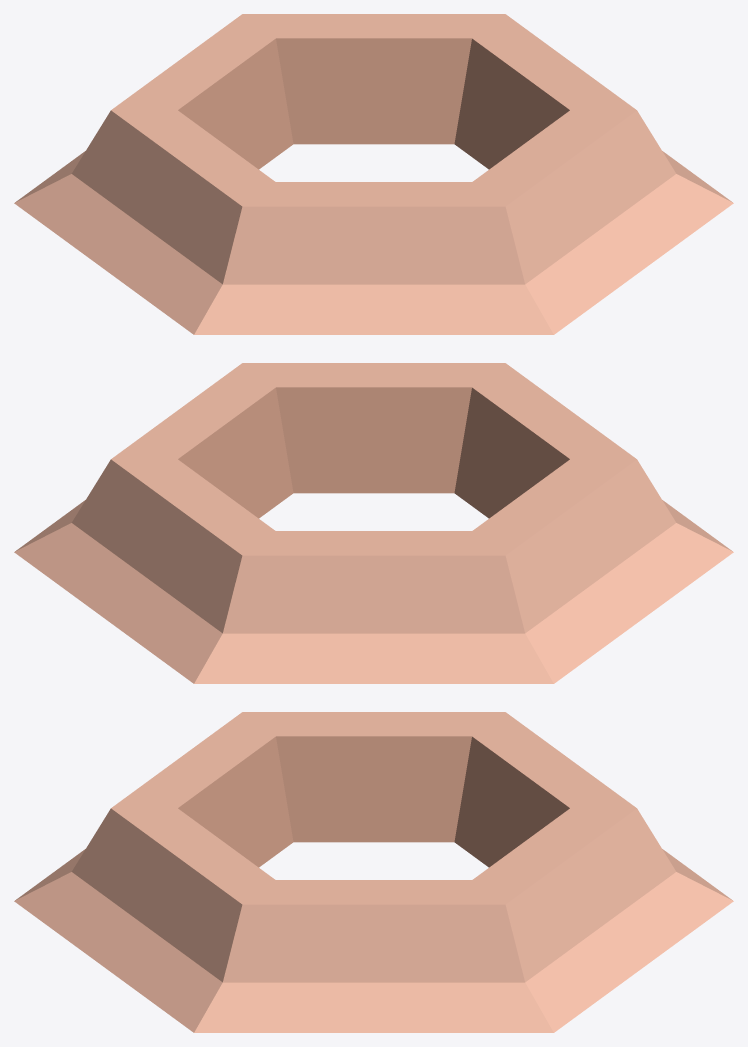
The model's file is crater_lev1.glb.
The picture shows the model from 3 angles, top to bottom: view 1: azimuth 30°, elevation 25°; view 2: azimuth 150°, elevation 25°; view 3: azimuth 270°, elevation 25°; orthographic projection.
Visible parts, largest first — view 1: crater_lev1; view 2: crater_lev1; view 3: crater_lev1.
Boxes of the visible parts, x1,y1,x2,y2 form: crater_lev1: (14,14,733,334); crater_lev1: (14,363,733,683); crater_lev1: (14,712,733,1032).
Size of the model in its own units: 0.715 by 0.1176 by 0.8256.
